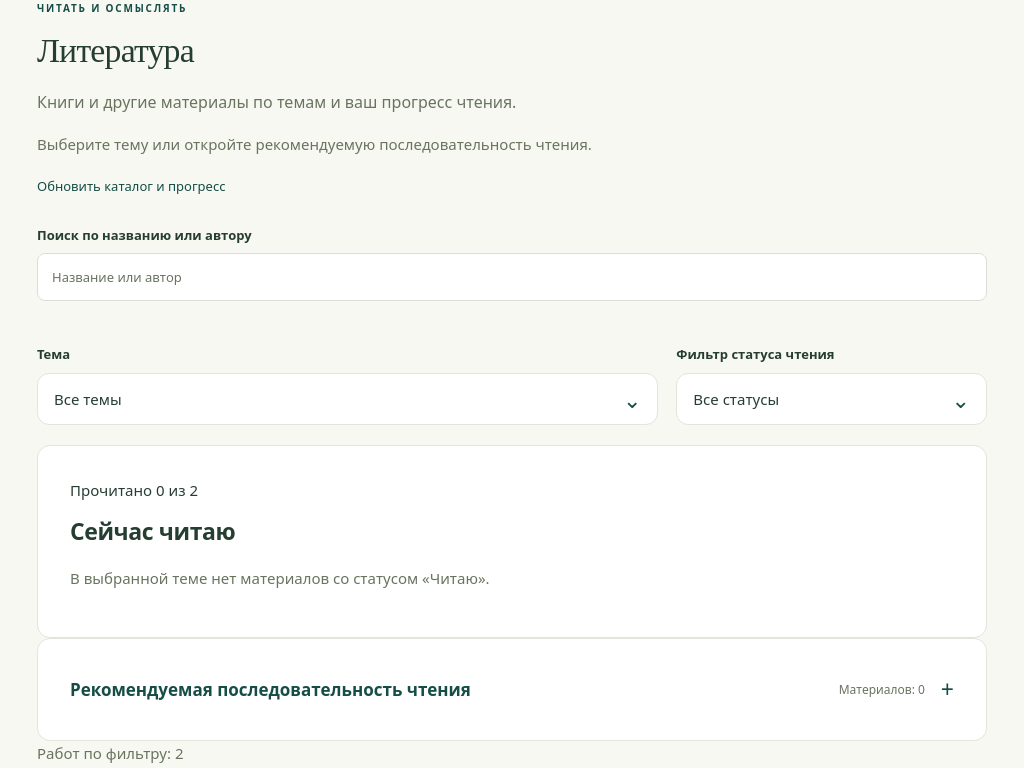
keeps additional-course books under their concrete topic in pwa
Click the dropdown named "Тема": x=88, y=399 [37,373,658,425]
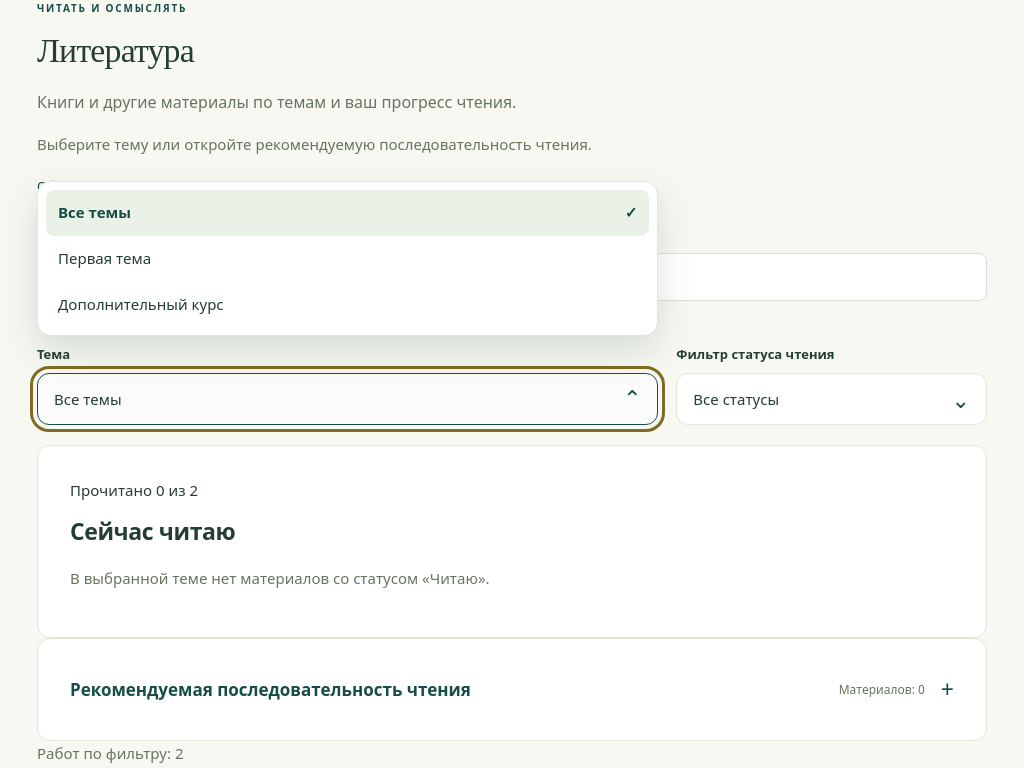
Click the option "Дополнительный курс": x=141, y=304 [58,294,224,314]
(page scrolled)
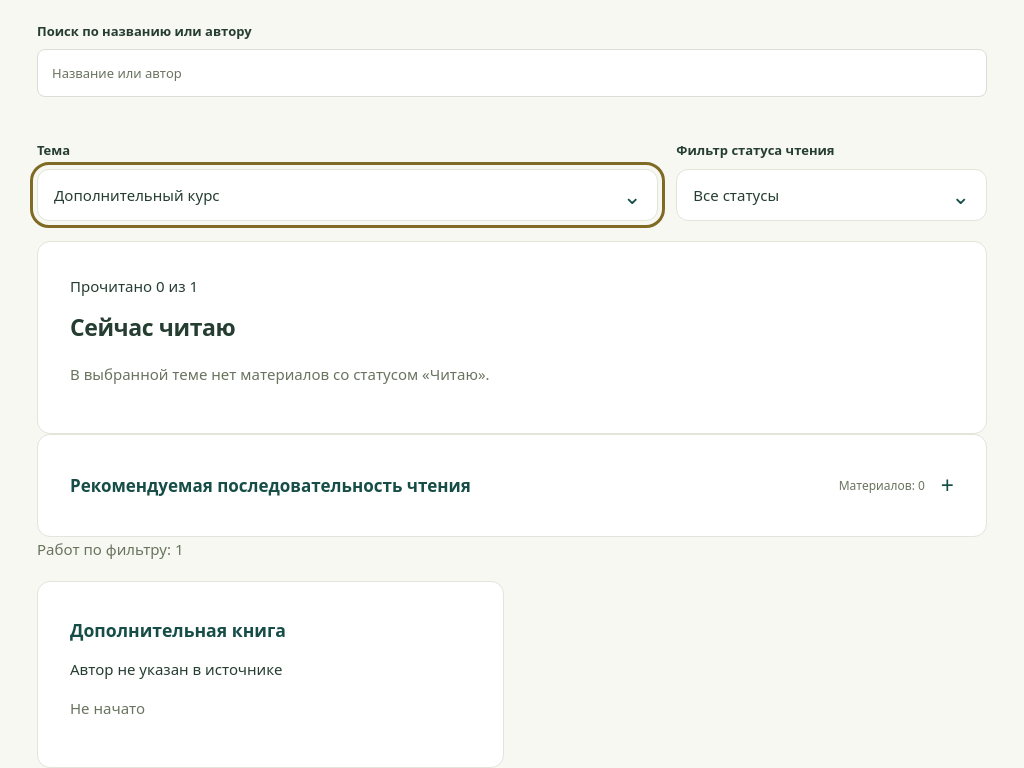
Check: the button "Дополнительная книга" is shown, box [70,614,286,647]
Check: the dropdown named "Тема" shows "Дополнительный курс", box [37,169,658,221]
